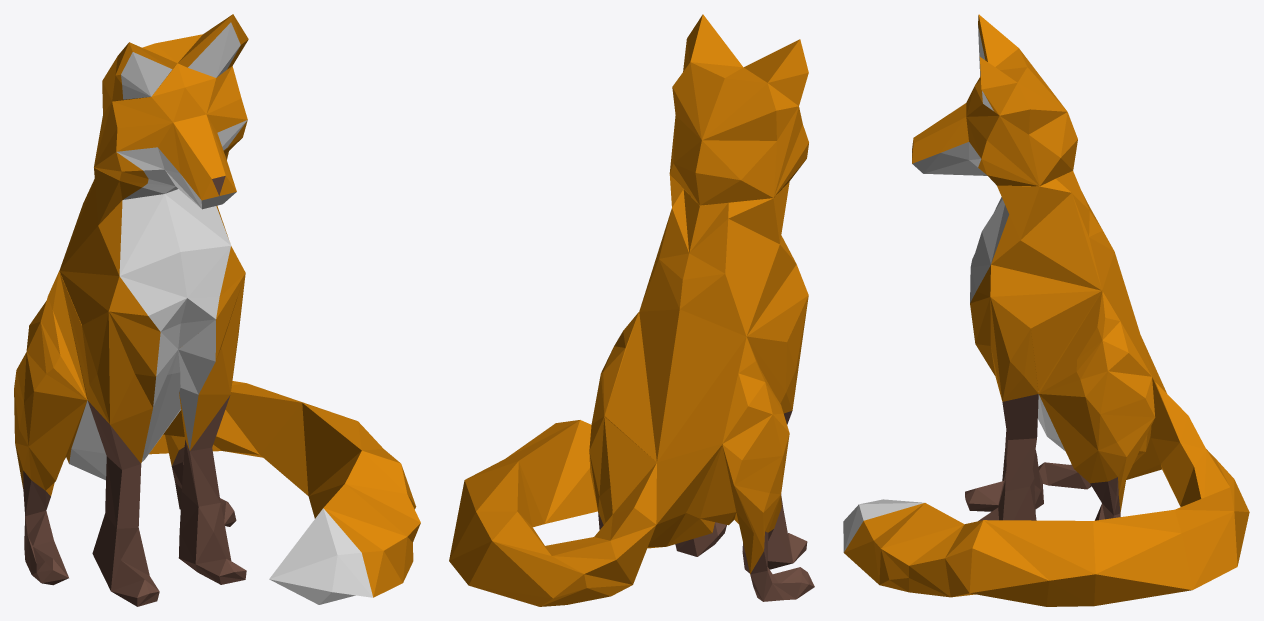
The model's file is Fox.gltf.
3 views of the same model, side by side, from view 1: azimuth 30°, elevation 25°; view 2: azimuth 150°, elevation 25°; view 3: azimuth 270°, elevation 25° (orthographic). The views are drawn at different scales.
Parts seen in each view (by area): view 1: node_MeshObject-898641600-PolyPaper13; view 2: node_MeshObject-898641600-PolyPaper13; view 3: node_MeshObject-898641600-PolyPaper13.
Part boxes in pixels (x1,y1,x2,y2): node_MeshObject-898641600-PolyPaper13: (14,14,420,606); node_MeshObject-898641600-PolyPaper13: (449,14,814,606); node_MeshObject-898641600-PolyPaper13: (843,14,1249,606).
Bounding box in the file's own units: 1.88 × 2.91 × 2.19.
